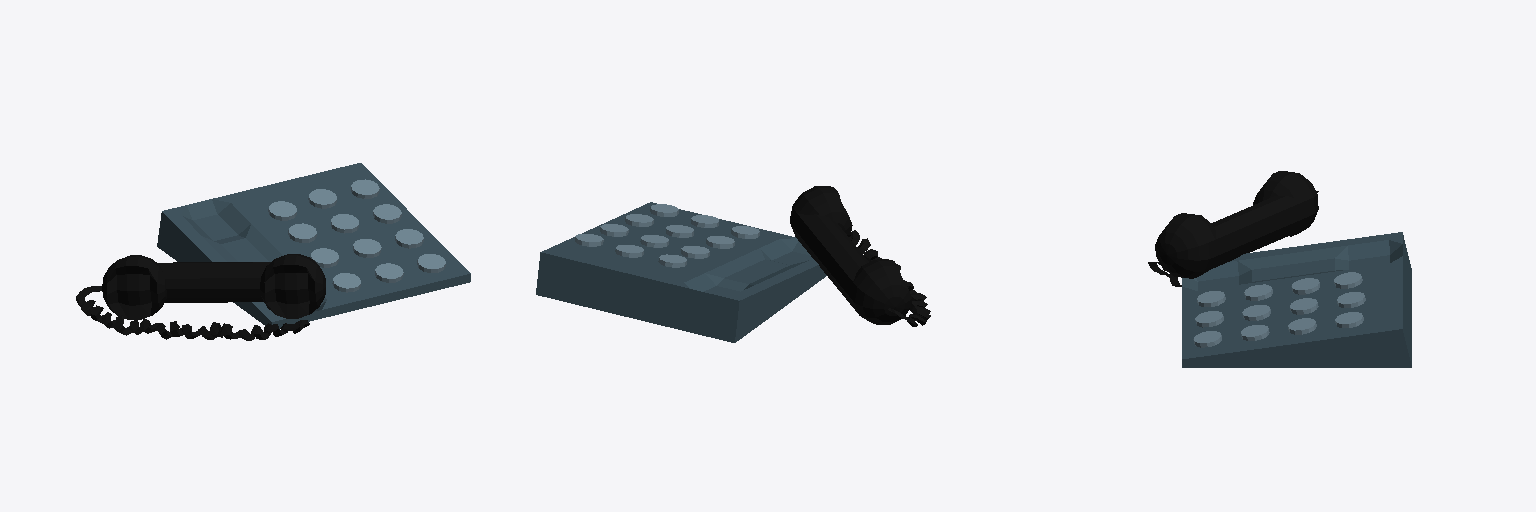
The picture shows the model from 3 angles: view 1: azimuth 30°, elevation 25°; view 2: azimuth 150°, elevation 25°; view 3: azimuth 270°, elevation 25°; orthographic projection.
Visible parts, largest first — view 1: group[number redacted], group[number redacted], group[number redacted], group[number redacted], group[number redacted]; view 2: group[number redacted], group[number redacted], group[number redacted], group[number redacted], group[number redacted]; view 3: group[number redacted], group[number redacted], group[number redacted], group[number redacted].
Boxes of the visible parts, <box> form: group[number redacted]: <box>157,163,470,328</box>; group[number redacted]: <box>158,262,270,302</box>; group[number redacted]: <box>260,254,325,318</box>; group[number redacted]: <box>102,255,166,319</box>; group[number redacted]: <box>76,286,309,340</box>; group[number redacted]: <box>536,202,826,342</box>; group[number redacted]: <box>791,214,868,308</box>; group[number redacted]: <box>850,259,911,324</box>; group[number redacted]: <box>790,186,852,241</box>; group[number redacted]: <box>849,230,930,326</box>; group[number redacted]: <box>1182,232,1411,367</box>; group[number redacted]: <box>1205,196,1308,271</box>; group[number redacted]: <box>1155,213,1216,278</box>; group[number redacted]: <box>1253,171,1318,236</box>.
Size of the model in its own units: 0.8012 by 0.1647 by 0.552.